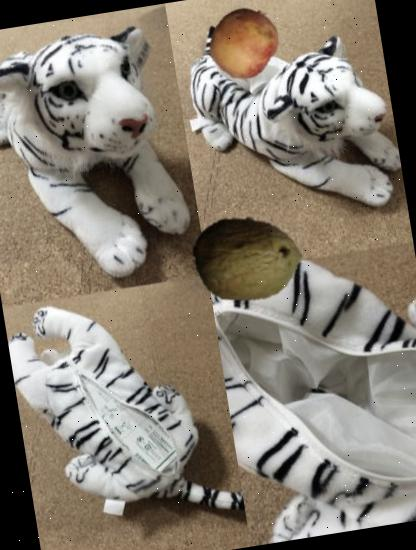Papaya: (185, 196, 310, 321)
Peach: (202, 1, 286, 85)
